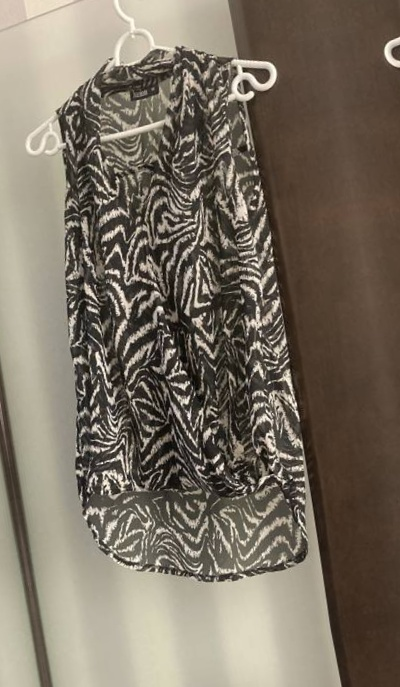Dress: (0, 12, 379, 619), (357, 0, 400, 555), (90, 672, 400, 687)
